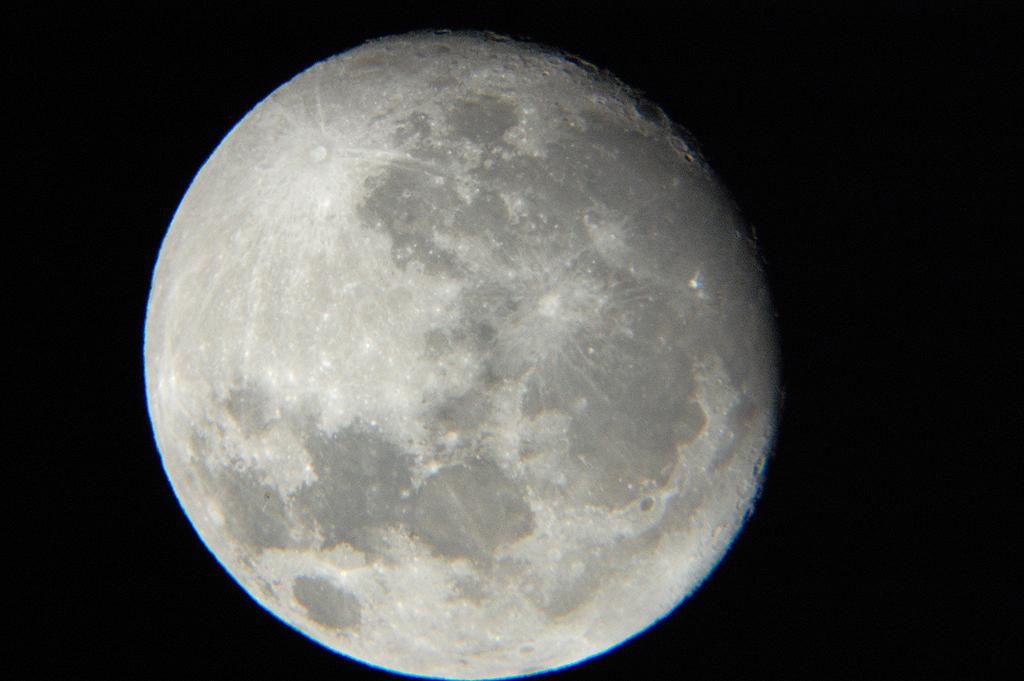crater: (514, 264, 591, 356), (281, 114, 353, 196), (617, 95, 670, 143), (681, 258, 720, 317), (403, 40, 458, 72), (197, 497, 235, 529), (598, 219, 630, 253), (508, 635, 544, 661), (742, 443, 767, 480), (633, 491, 667, 518), (442, 650, 477, 670), (394, 184, 419, 205), (708, 370, 730, 393), (728, 221, 742, 248)
